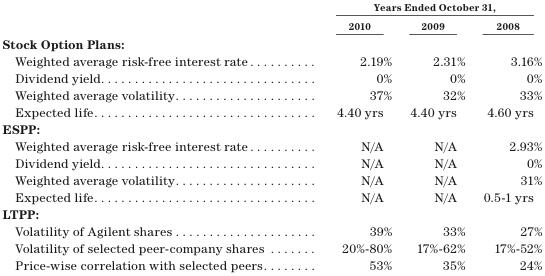table: (1, 0, 541, 272)
table column: (1, 0, 301, 272), (301, 0, 400, 272), (400, 0, 473, 272), (473, 0, 541, 272)
table column header: (1, 0, 541, 33)
table projected row header: (1, 33, 541, 52), (1, 120, 541, 137), (1, 205, 541, 222)
table row: (1, 33, 541, 52), (1, 15, 541, 33), (1, 52, 541, 69), (1, 69, 541, 86), (1, 86, 541, 103), (1, 103, 541, 120), (1, 120, 541, 137), (1, 137, 541, 154), (1, 154, 541, 171), (1, 171, 541, 188), (1, 188, 541, 205), (1, 205, 541, 222), (1, 222, 541, 239), (1, 239, 541, 256), (1, 256, 541, 272), (1, 0, 541, 15)
table spanning cell: (301, 0, 541, 15)
